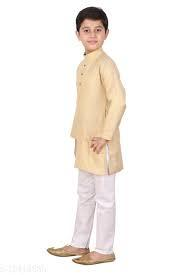Human: (56, 4, 135, 262)
